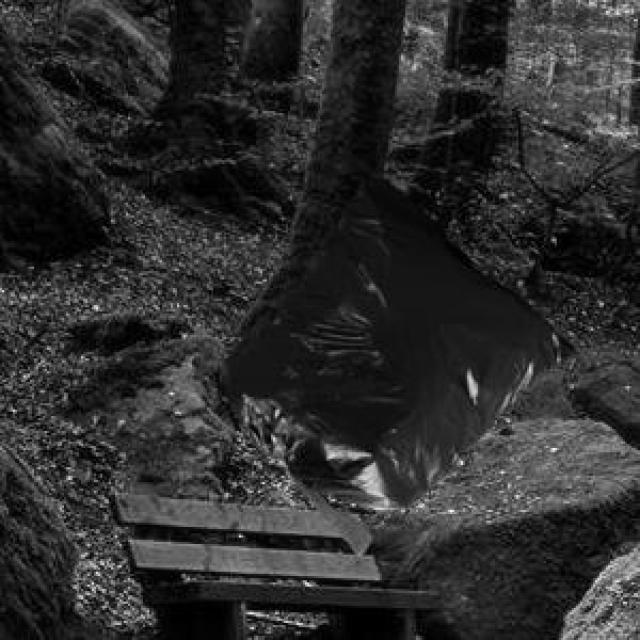miscellaneous trash: (220, 147, 578, 550)
